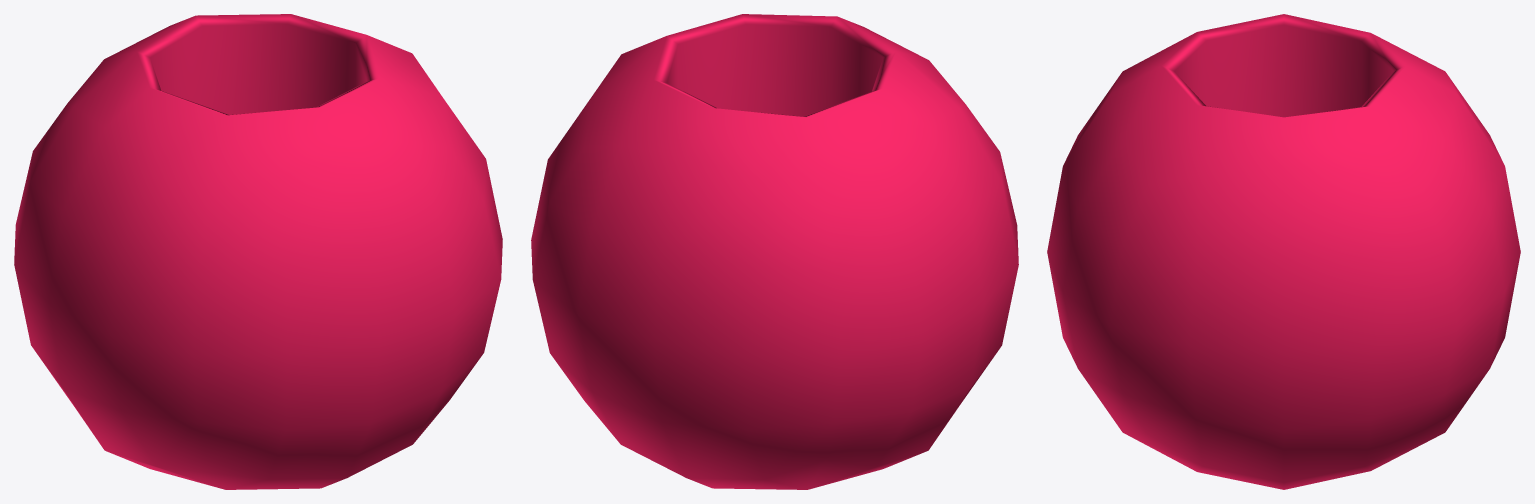
Rendered from Store_9_Toy_Ball_2.glb.
The picture shows the model from 3 angles, left to right: view 1: azimuth 30°, elevation 25°; view 2: azimuth 150°, elevation 25°; view 3: azimuth 270°, elevation 25°; orthographic projection. The views are drawn at different scales.
Visible parts, largest first — view 1: Store_9_Toy_Ball_2; view 2: Store_9_Toy_Ball_2; view 3: Store_9_Toy_Ball_2.
Part boxes in pixels (x1,y1,x2,y2): Store_9_Toy_Ball_2: (14, 14, 502, 489); Store_9_Toy_Ball_2: (531, 14, 1018, 489); Store_9_Toy_Ball_2: (1047, 14, 1520, 489).
Bounding box in the file's own units: 0.2652 × 0.2301 × 0.2652.
Materials: 1 (1 with a texture image).
